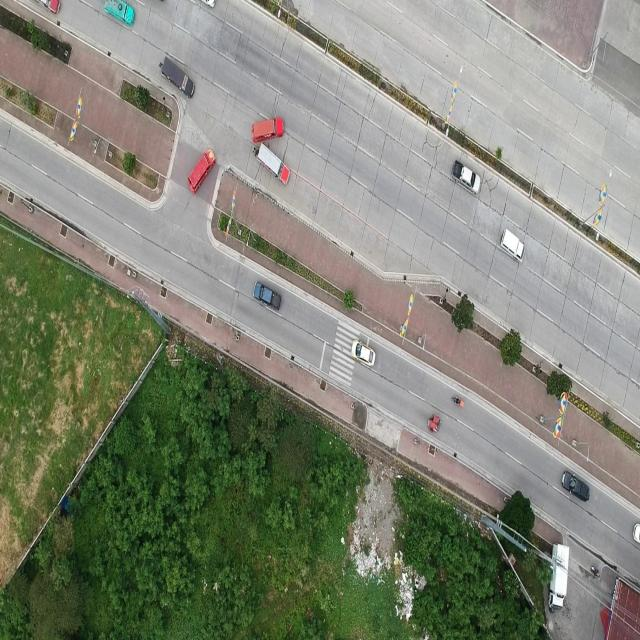Car: (158, 52, 200, 102), (186, 142, 216, 198), (252, 273, 284, 315), (451, 160, 481, 196), (501, 228, 526, 268), (351, 335, 376, 370)
Truck: (254, 141, 294, 186)
